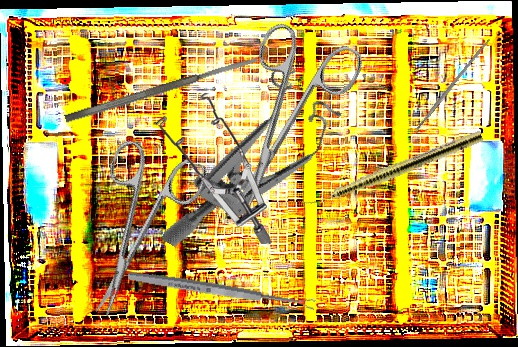Handpiece: (301, 127, 484, 214)
Iris Scissors: (192, 12, 368, 229), (55, 132, 211, 331)
Scalpel Handle: (413, 37, 492, 132)
Spatula Surgical: (63, 54, 260, 125)
Speculum: (160, 50, 352, 286), (151, 92, 275, 245)
Surgical Spoon: (127, 269, 316, 312)
